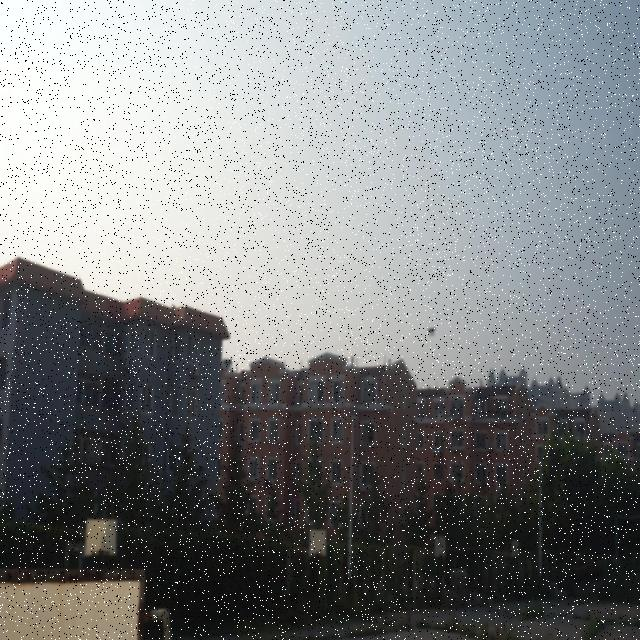UAV: (427, 326, 436, 338)
